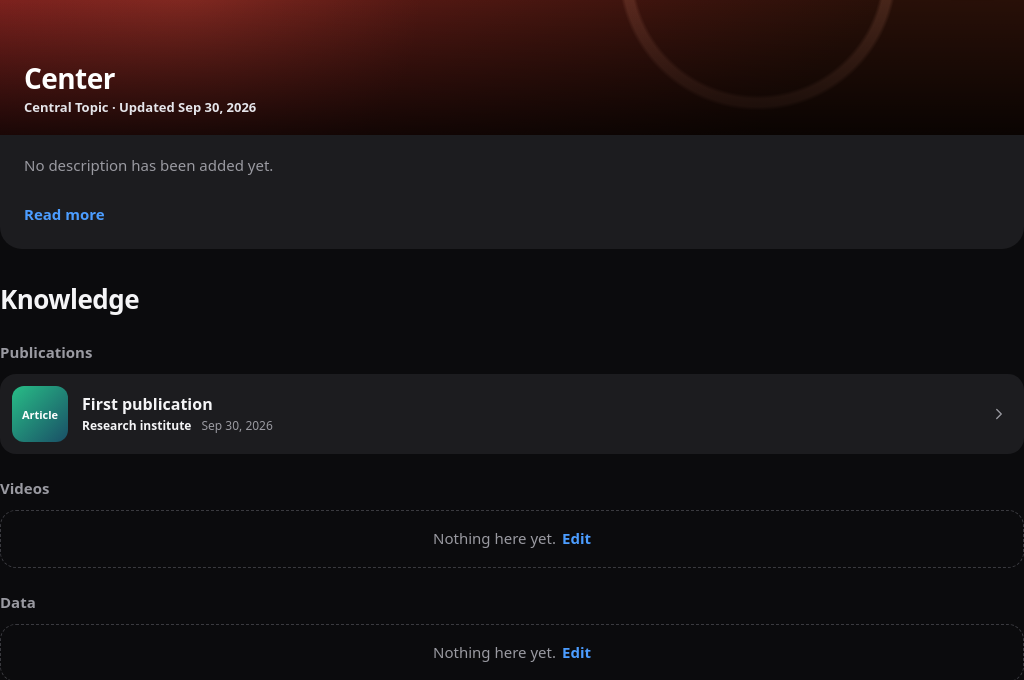
Test case: Knowledge item disclosure › preserves external and managed-file actions and identifies missing attachments
Click the button "Article First publication Research institute Sep 30, 2026": (40,414) [0,374,1023,454]
(page scrolled)
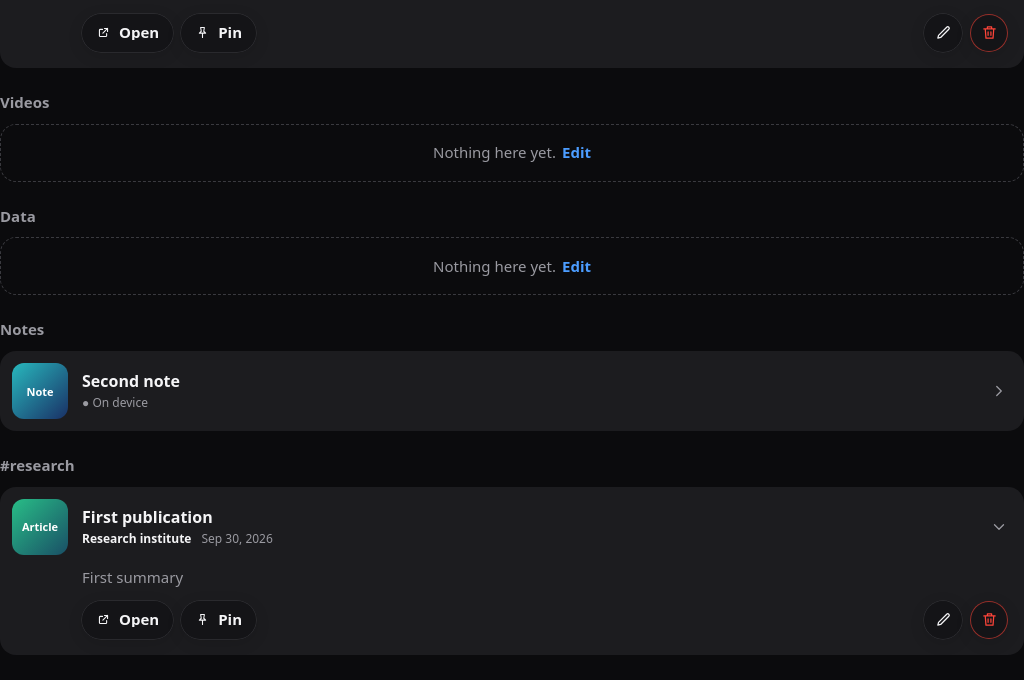
Click the button "Note Second note ● On device": (40,391) [0,351,1023,431]
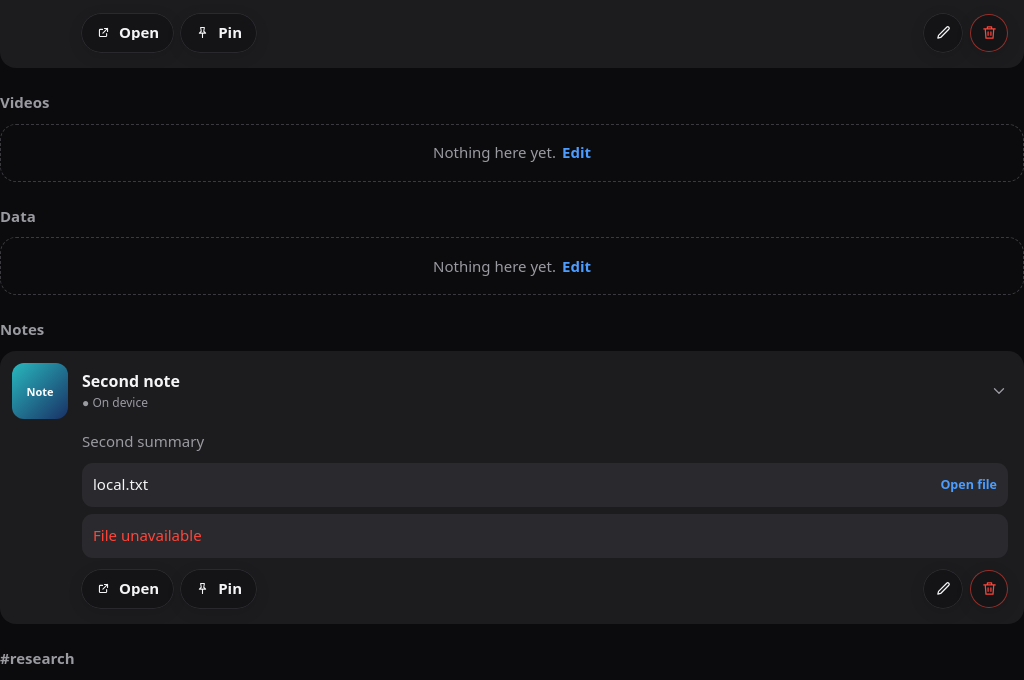
Expected: the text "File unavailable" is shown, [82,514,1008,558]
